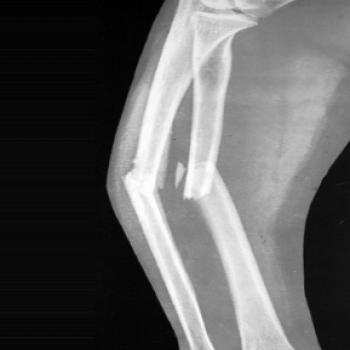Fracture: (175, 161, 235, 206), (113, 161, 166, 188)
